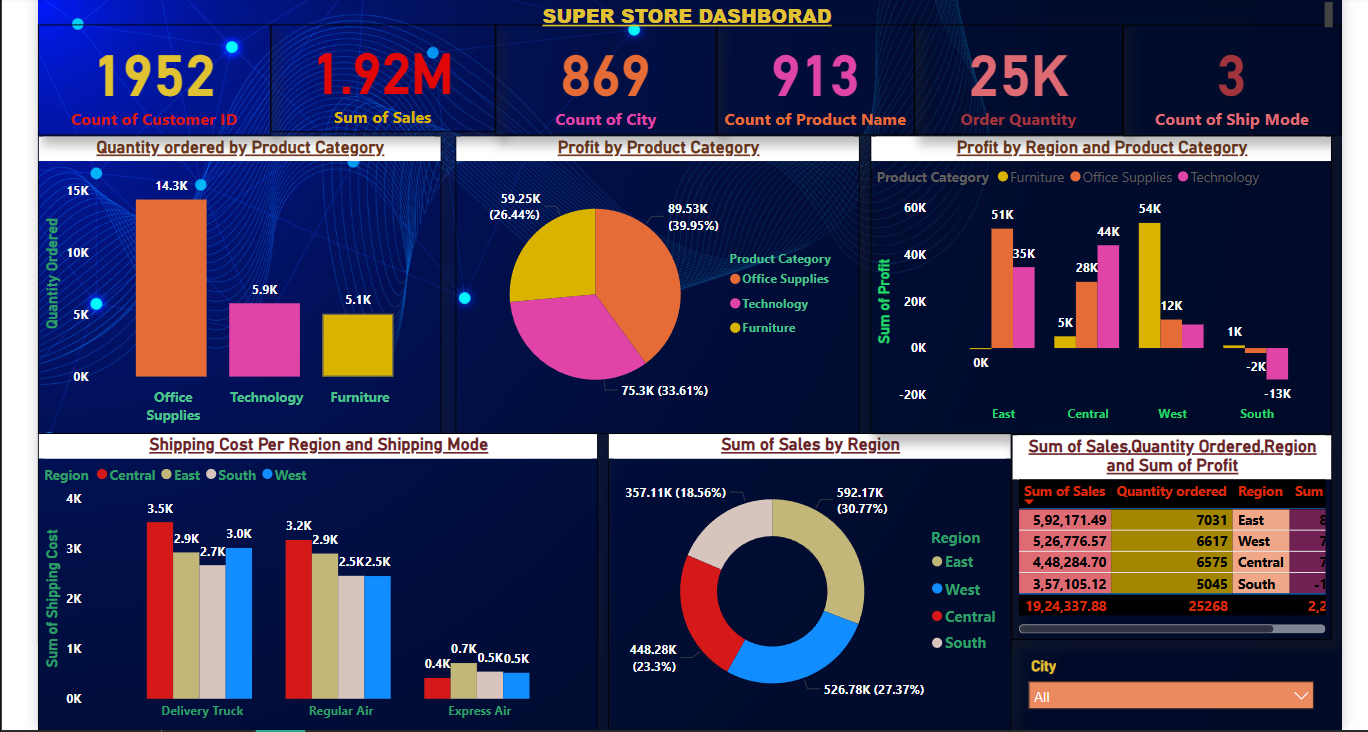

What the dashboard file says about the page in this screenshot:
{"tool":"powerbi","page":{"name":"Page 1","canvas":[1280,720],"ordinal":0},"visuals":[{"type":"clusteredColumnChart","title":" Quantity ordered  by Product Category","fields":{"Category":["Orders.Product Category"],"Y":["Sum(Orders.Quantity ordered new)"]},"box":[0,135.7,395.7,292.9],"z":0},{"type":"pieChart","title":" Profit by Product Category","fields":{"Y":["Sum(Orders.Profit)"],"Category":["Orders.Product Category"]},"box":[410,135.7,397.1,292.9],"z":1000},{"type":"clusteredColumnChart","title":"Shipping Cost Per Region and Shipping Mode","fields":{"Y":["Sum(Orders.Shipping Cost)"],"Category":["Orders.Ship Mode"],"Series":["Orders.Region"]},"box":[0,428.2,549.7,292],"z":2000},{"type":"donutChart","fields":{"Category":["Orders.Region"],"Y":["Sum(Orders.Sales)"]},"box":[559.5,428.2,396.3,292],"z":3000},{"type":"card","fields":{"Values":["CountNonNull(Orders.Customer ID)"]},"box":[0,27.1,228.6,108.6],"z":4000},{"type":"card","fields":{"Values":["Sum(Orders.Sales)"]},"box":[228.2,27,220.9,105.5],"z":5000},{"type":"card","fields":{"Values":["Count(Orders.City)"]},"box":[448.6,27.1,217.1,108.6],"z":6000},{"type":"card","fields":{"Values":["Count(Orders.Product Name)"]},"box":[665.7,27.1,194.3,108.6],"z":7000},{"type":"clusteredColumnChart","title":" Profit by Region and Product Category","fields":{"Category":["Orders.Region"],"Y":["Sum(Orders.Profit)"],"Series":["Orders.Product Category"]},"box":[817.1,135.7,452.9,292.9],"z":8000},{"type":"card","fields":{"Values":["Sum(Orders.Quantity ordered new)"]},"box":[860.1,27,204.9,108],"z":9000},{"type":"card","fields":{"Values":["Count(Orders.Ship Mode)"]},"box":[1065,27,214.7,109.2],"z":10000},{"type":"tableEx","title":"Sum of Sales,Quantity Ordered,Region and Sum of Profit","fields":{"Values":["Sum(Orders.Sales)","Sum(Orders.Quantity ordered new)","Orders.Region","Sum(Orders.Profit)"]},"box":[955.8,429.5,314.1,201.2],"z":11000},{"type":"textbox","box":[6.1,0,1269.9,35.6],"z":12000},{"type":"slicer","fields":{"Values":["Orders.City"]},"box":[962,642.9,300.6,77.3],"z":12001}]}

Visuals, with their boxes on the page's 1280x720 design canvas (x1, y1, x2, y2). These are canvas units, not pixel positions in the 1368x732 screenshot, which may show the page scaled, cropped or inside an application window:
" Quantity ordered  by Product Category" clusteredColumnChart: (left=0, top=136, right=396, bottom=429)
" Profit by Product Category" pieChart: (left=410, top=136, right=807, bottom=429)
"Shipping Cost Per Region and Shipping Mode" clusteredColumnChart: (left=0, top=428, right=550, bottom=720)
donutChart - Orders.Region x Sum(Orders.Sales): (left=560, top=428, right=956, bottom=720)
card - CountNonNull(Orders.Customer ID): (left=0, top=27, right=229, bottom=136)
card - Sum(Orders.Sales): (left=228, top=27, right=449, bottom=132)
card - Count(Orders.City): (left=449, top=27, right=666, bottom=136)
card - Count(Orders.Product Name): (left=666, top=27, right=860, bottom=136)
" Profit by Region and Product Category" clusteredColumnChart: (left=817, top=136, right=1270, bottom=429)
card - Sum(Orders.Quantity ordered new): (left=860, top=27, right=1065, bottom=135)
card - Count(Orders.Ship Mode): (left=1065, top=27, right=1280, bottom=136)
"Sum of Sales,Quantity Ordered,Region and Sum of Profit" tableEx: (left=956, top=430, right=1270, bottom=631)
textbox: (left=6, top=0, right=1276, bottom=36)
slicer - Orders.City: (left=962, top=643, right=1263, bottom=720)
